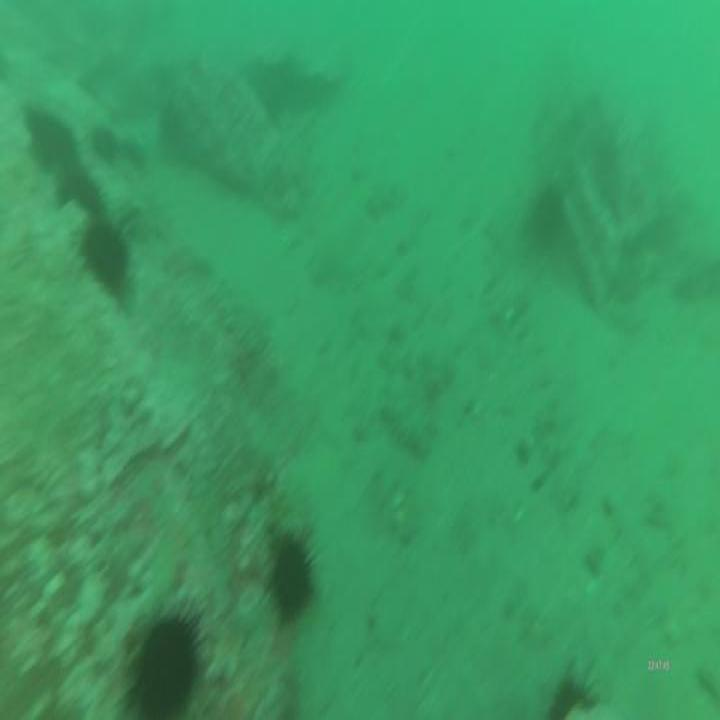echinus: (123, 602, 209, 720), (262, 524, 322, 635), (76, 212, 132, 298), (543, 659, 610, 720), (22, 107, 78, 174), (528, 182, 567, 254), (52, 166, 103, 212), (90, 118, 118, 166)
